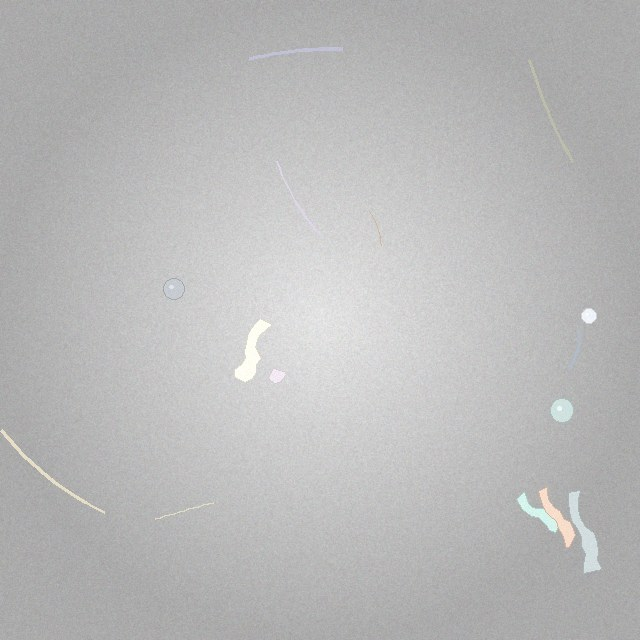fiber: (0, 427, 108, 516), (526, 56, 576, 166), (274, 160, 323, 237), (245, 44, 347, 65), (153, 501, 216, 522), (566, 328, 583, 372), (368, 210, 383, 247)
film: (569, 490, 602, 573), (234, 318, 273, 382), (539, 487, 576, 548), (517, 492, 560, 532)
fragment: (268, 368, 286, 384)
pellet: (550, 399, 574, 423), (163, 278, 184, 300), (581, 309, 596, 324)
